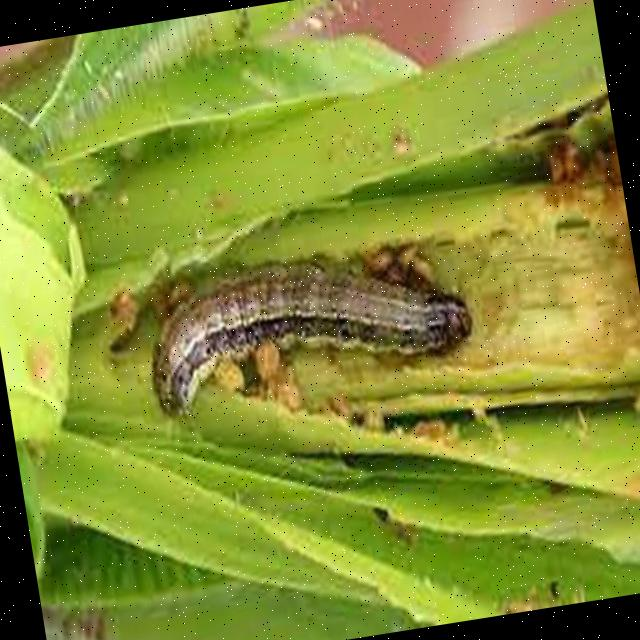worm: (132, 226, 484, 432)
